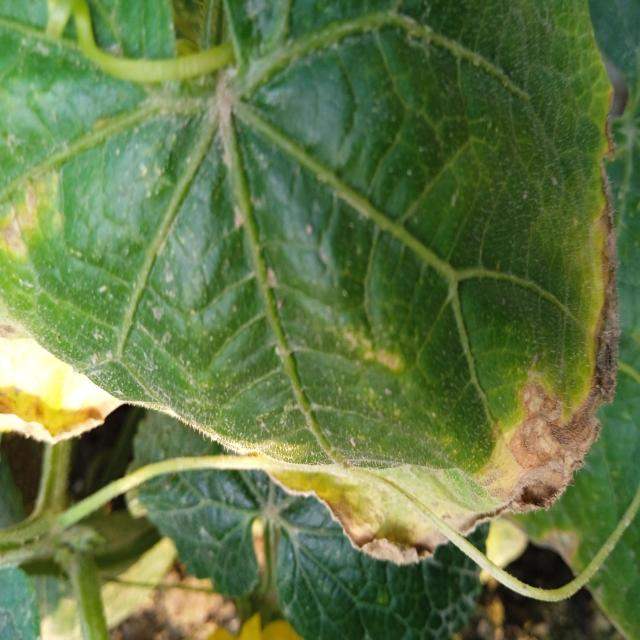cucumber_gummy: (0, 0, 625, 570)
